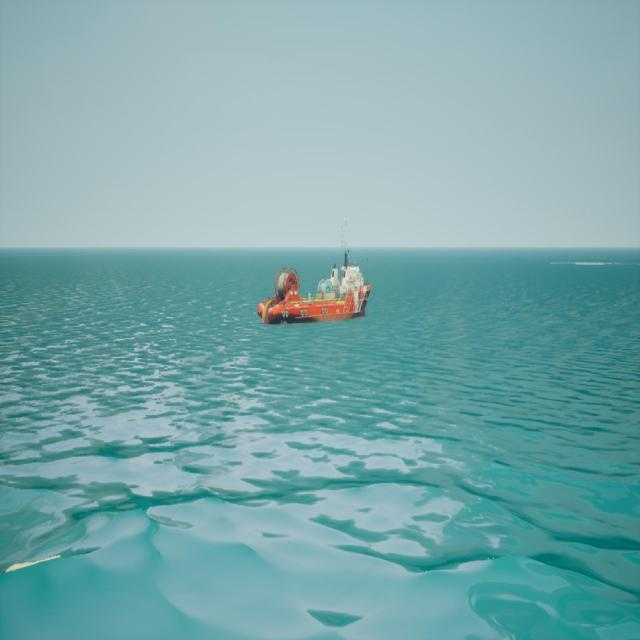tug boat: (261, 222, 373, 326)
